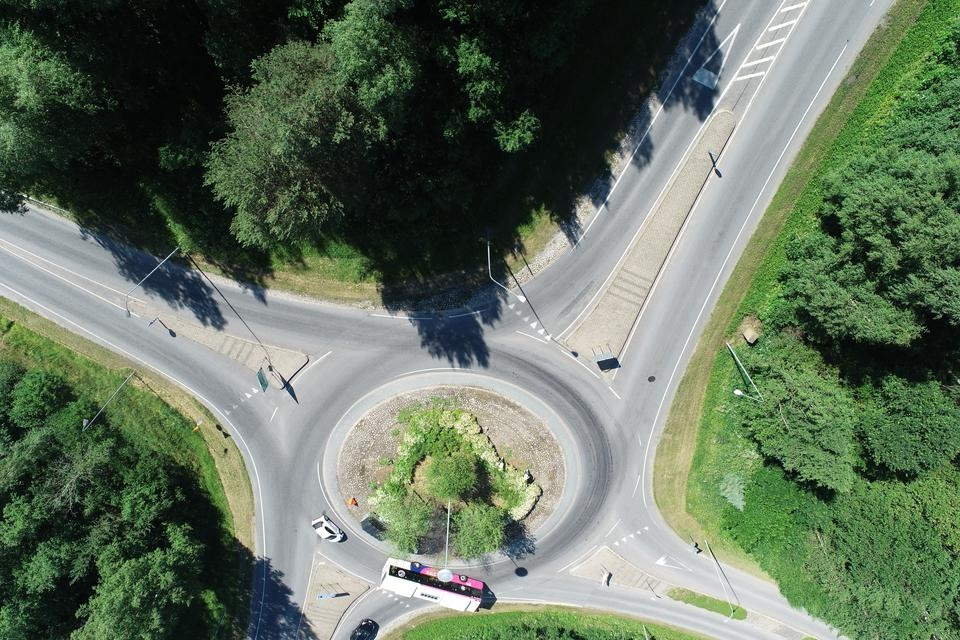roundabout: (192, 237, 727, 640)
